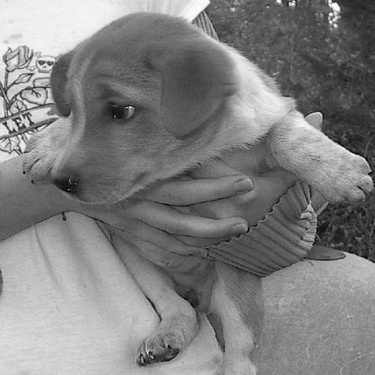dog: (12, 6, 372, 372)
